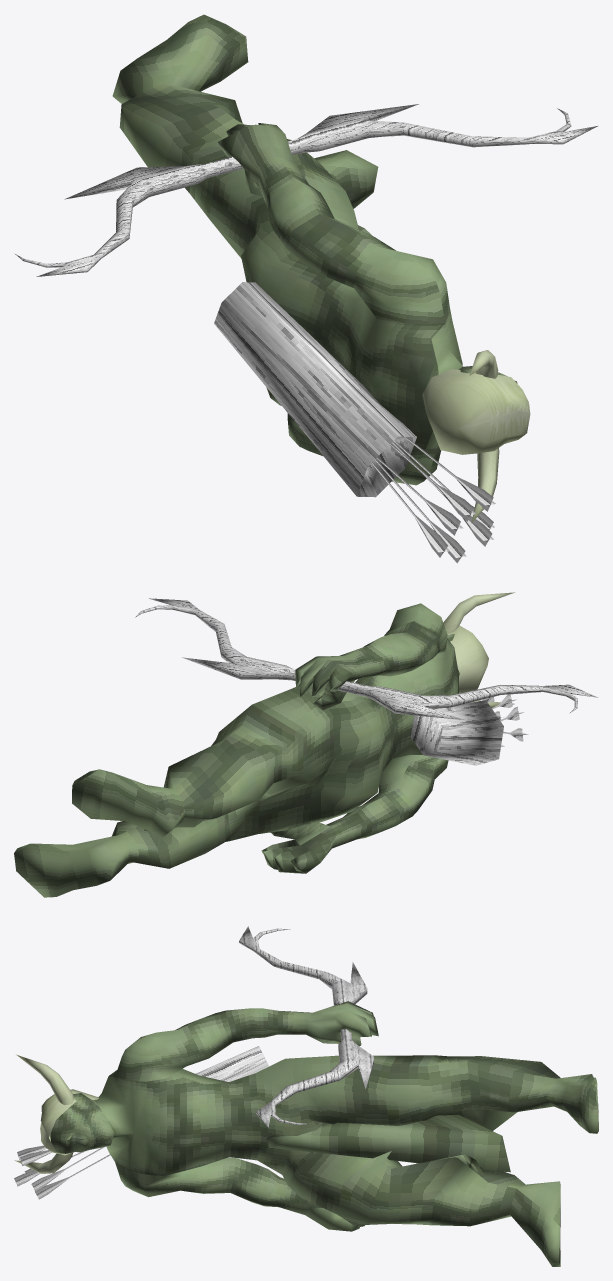
Rendered from meghnaad_000114.obj.
The picture shows the model from 3 angles, top to bottom: view 1: azimuth 30°, elevation 25°; view 2: azimuth 150°, elevation 25°; view 3: azimuth 270°, elevation 25°; orthographic projection. The views are drawn at different scales.
Visible parts, largest first — view 1: body_mesh15-geometry, quiver_Cylinder, bow_Cylinder.001, hair_mesh18-geometry, horn.000_Cone; view 2: body_mesh15-geometry, bow_Cylinder.001, quiver_Cylinder, hair_mesh18-geometry, horn.000_Cone; view 3: body_mesh15-geometry, bow_Cylinder.001, quiver_Cylinder, horn.000_Cone, hair_mesh18-geometry.
Boxes of the visible parts, x1,y1,x2,y2 form: body_mesh15-geometry: (112, 14, 517, 485); quiver_Cylinder: (214, 282, 495, 563); bow_Cylinder.001: (14, 104, 597, 276); hair_mesh18-geometry: (422, 369, 530, 454); horn.000_Cone: (469, 350, 499, 523); body_mesh15-geometry: (14, 603, 459, 897); bow_Cylinder.001: (135, 598, 598, 719); quiver_Cylinder: (411, 694, 528, 765); hair_mesh18-geometry: (447, 625, 488, 693); horn.000_Cone: (443, 592, 514, 707); body_mesh15-geometry: (50, 1001, 598, 1266); bow_Cylinder.001: (239, 926, 373, 1127); quiver_Cylinder: (14, 1046, 268, 1199); horn.000_Cone: (14, 1054, 74, 1173); hair_mesh18-geometry: (40, 1089, 98, 1155).
Bounding box in the file's own units: 1.99 × 0.9578 × 2.43.
